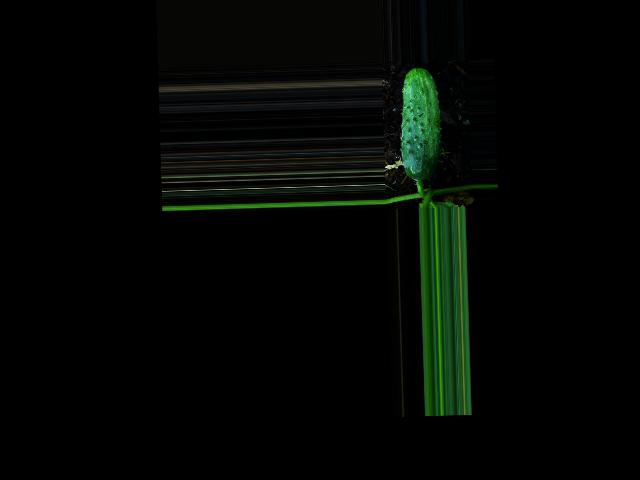cucumber: (398, 66, 442, 180)
